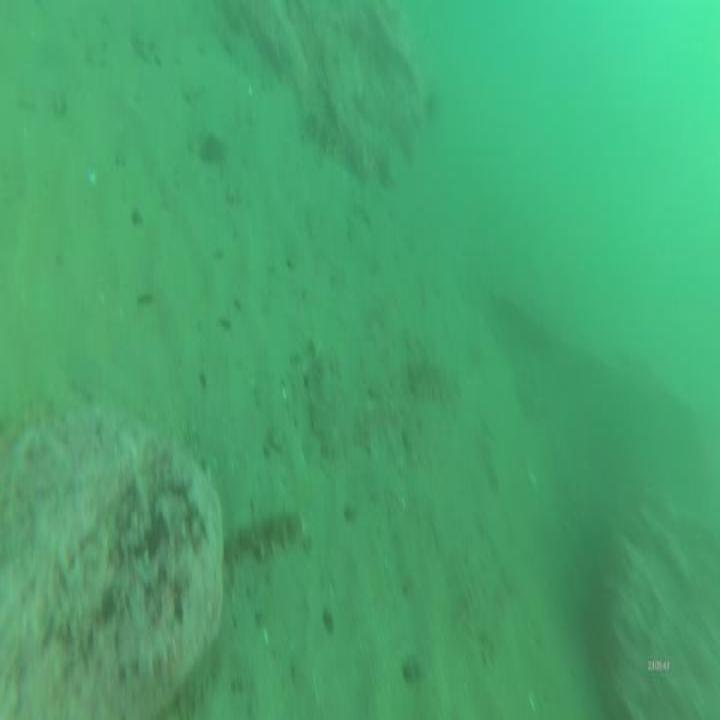holothurian: (225, 501, 299, 567), (404, 354, 457, 398)
